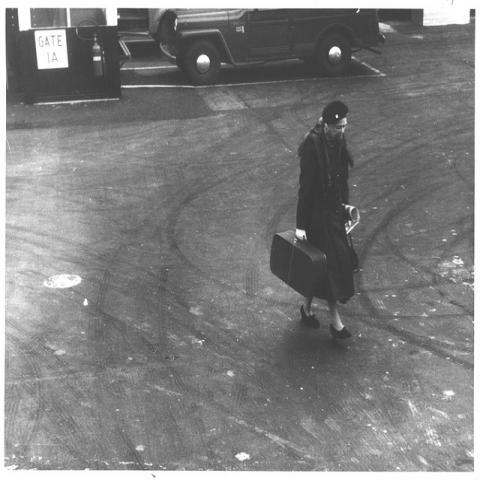car: (149, 9, 386, 82)
